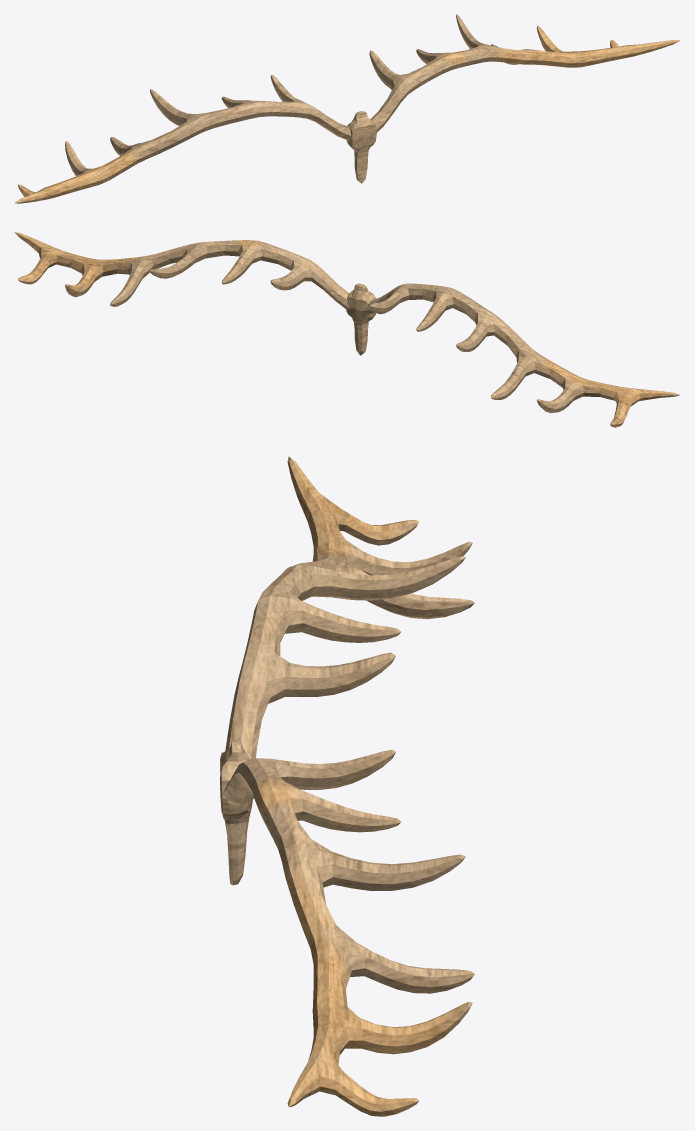
File: Antlers.fbx
The picture shows the model from 3 angles, top to bottom: view 1: azimuth 30°, elevation 25°; view 2: azimuth 150°, elevation 25°; view 3: azimuth 270°, elevation 25°; orthographic projection. The views are drawn at different scales.
Visible parts, largest first — view 1: Cube.092; view 2: Cube.092; view 3: Cube.092.
Part boxes in pixels (box(x1,y1,x2,y2)): Cube.092: box(14, 14, 680, 203); Cube.092: box(14, 232, 679, 427); Cube.092: box(220, 456, 474, 1116).
Bounding box in the file's own units: 361 × 50.49 × 59.74.
